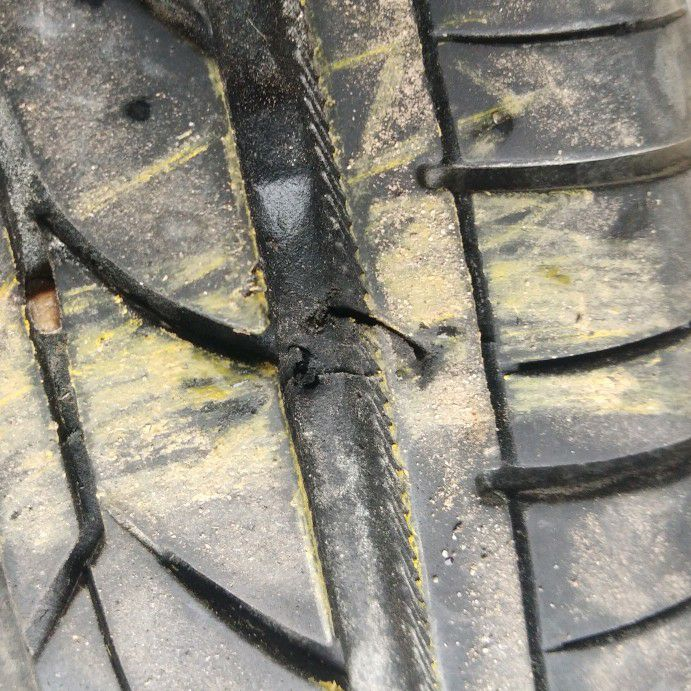tr: (301, 298, 435, 367), (273, 339, 329, 405)
